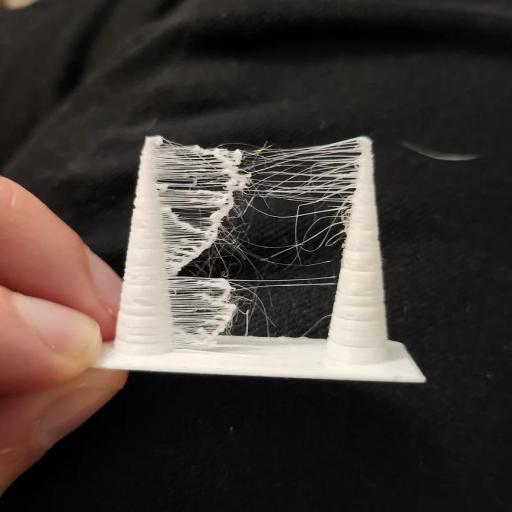stringing: (162, 146, 361, 256), (164, 271, 242, 342)
